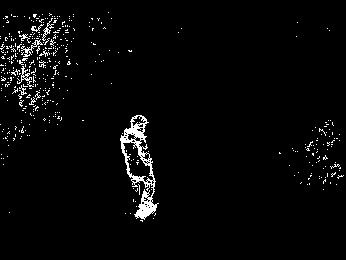person: (117, 111, 159, 222)
